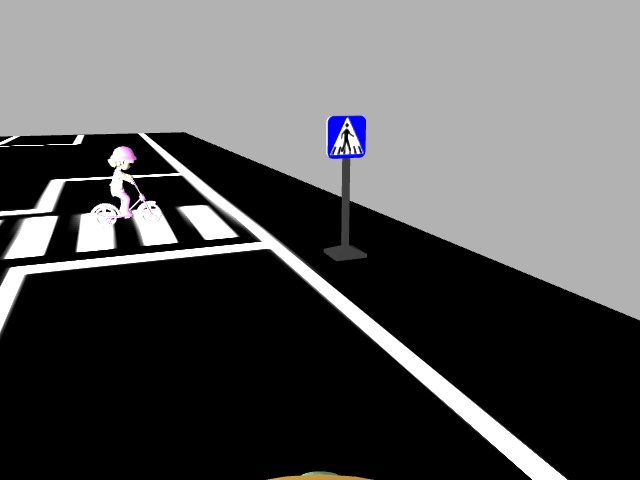Crosswalk: (323, 113, 371, 163)
Pedestrian: (88, 141, 162, 229)
